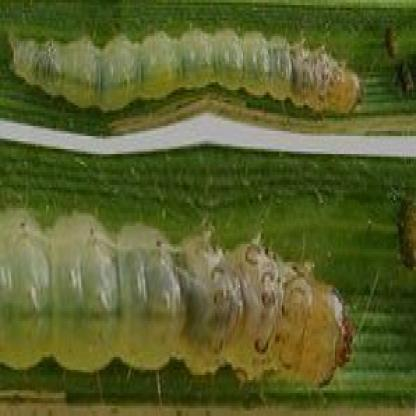leaf-folder: (5, 181, 360, 403), (8, 14, 372, 133)
